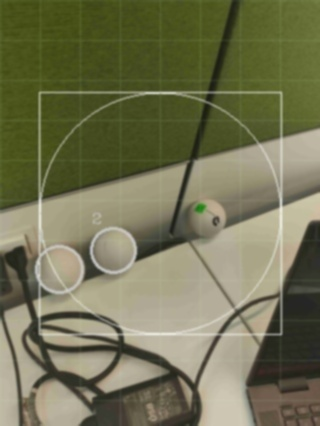Pelota blanca: (23, 374, 92, 425), (34, 244, 86, 294), (87, 225, 137, 275), (185, 198, 227, 240)
